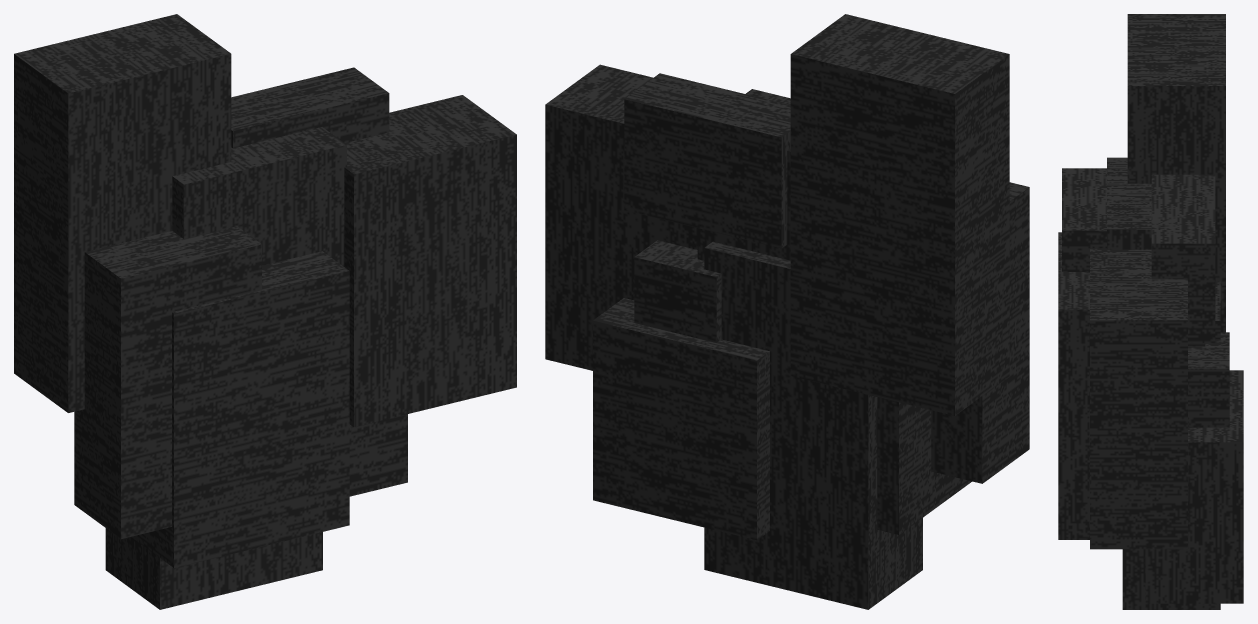
File: plat_ver1.fbx
3 renders of one model, left to right at view 1: azimuth 30°, elevation 25°; view 2: azimuth 150°, elevation 25°; view 3: azimuth 270°, elevation 25°, orthographic. The views are drawn at different scales.
Visible parts, largest first — view 1: Cube.061; view 2: Cube.061; view 3: Cube.061.
Boxes of the visible parts, box(x1,y1,x2,y2) form: Cube.061: box(14, 14, 516, 609); Cube.061: box(545, 14, 1029, 609); Cube.061: box(1058, 14, 1243, 609).
Bounding box in the file's own units: 981 × 1174 × 408.
